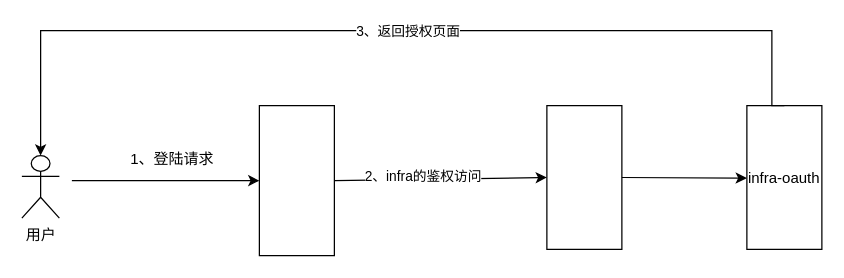
The diagram is 844 pixels wide and 278 high, and some of its shapes have lost their labels. The centre of each missing label's shape, as x and y in pixels:
"infra-gateway" belongs at point (584, 176).
"团队新开发的应用程序" belongs at point (296, 180).
